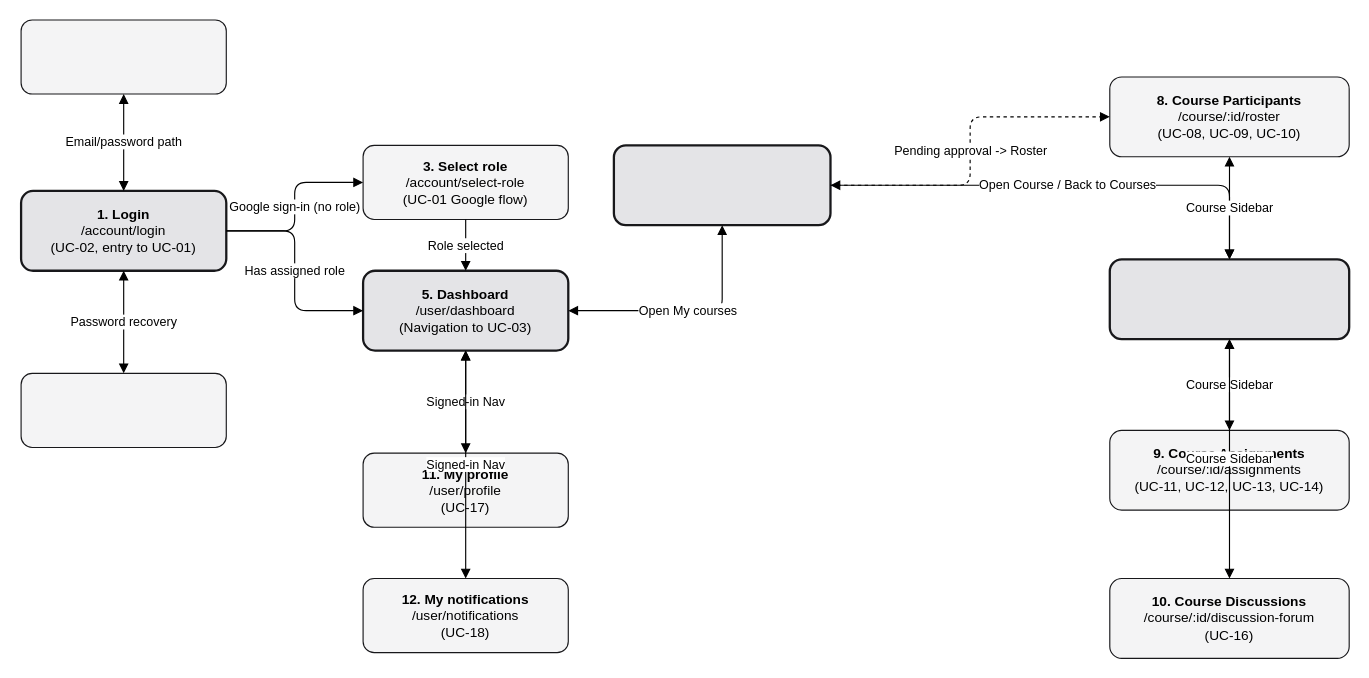
The diagram is 1369 pixels wide and 678 high, and some of its shapes have lost their labels. The centre of each missing label's shape, as x and y in pixels:
2. Sign up /account/sign-up (UC-01): the point at 123,56
4. Forgot password /account/forgot-password: the point at 123,409
6. My courses /user/courses (UC-03, UC-04, UC-06): the point at 721,185
7. Course /course/:id (UC-05, UC-07, UC-15, UC-19): the point at 1229,299
